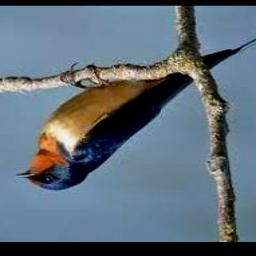Swallow: (16, 24, 256, 191)
